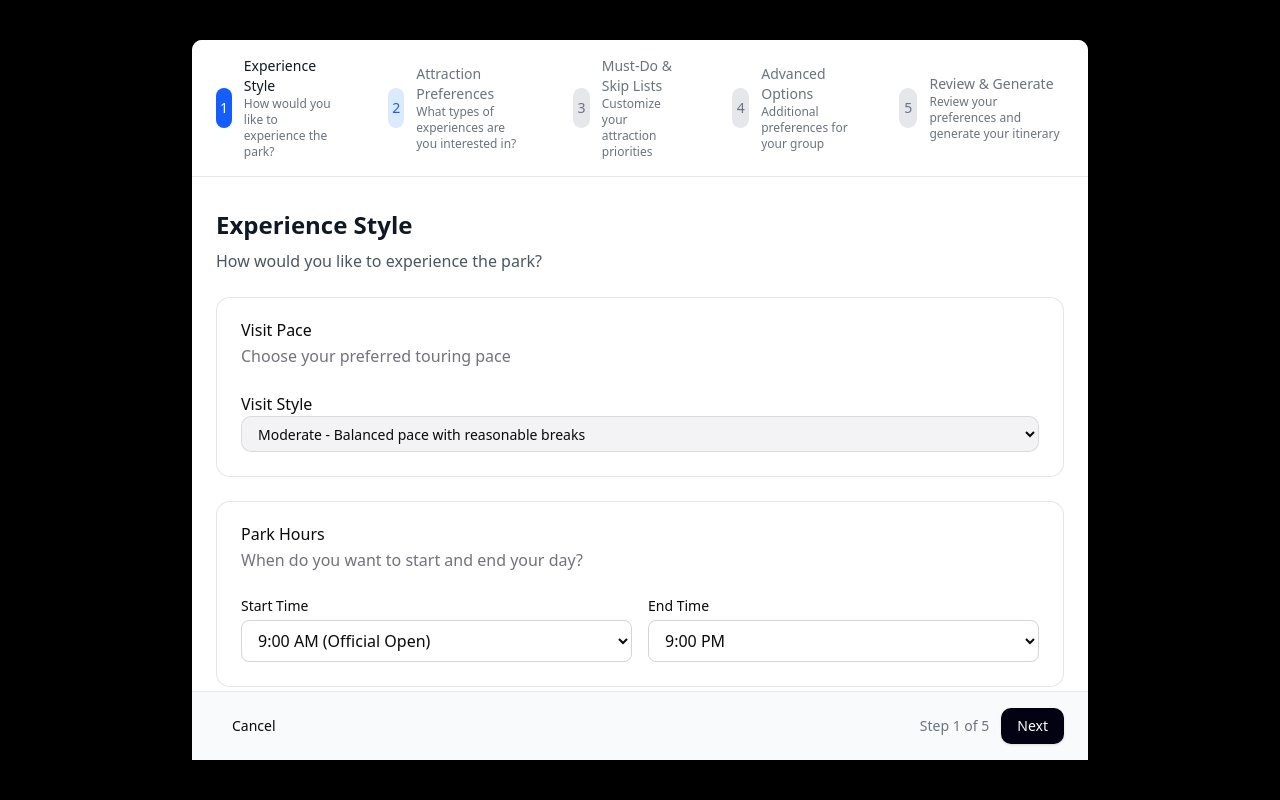
it: ItineraryPreferencesWizard › navigates to step 2 (Attraction Preferences) when Next is clicked
Click the button "Next" at (1033, 726), box 1001,708 -> 1064,744
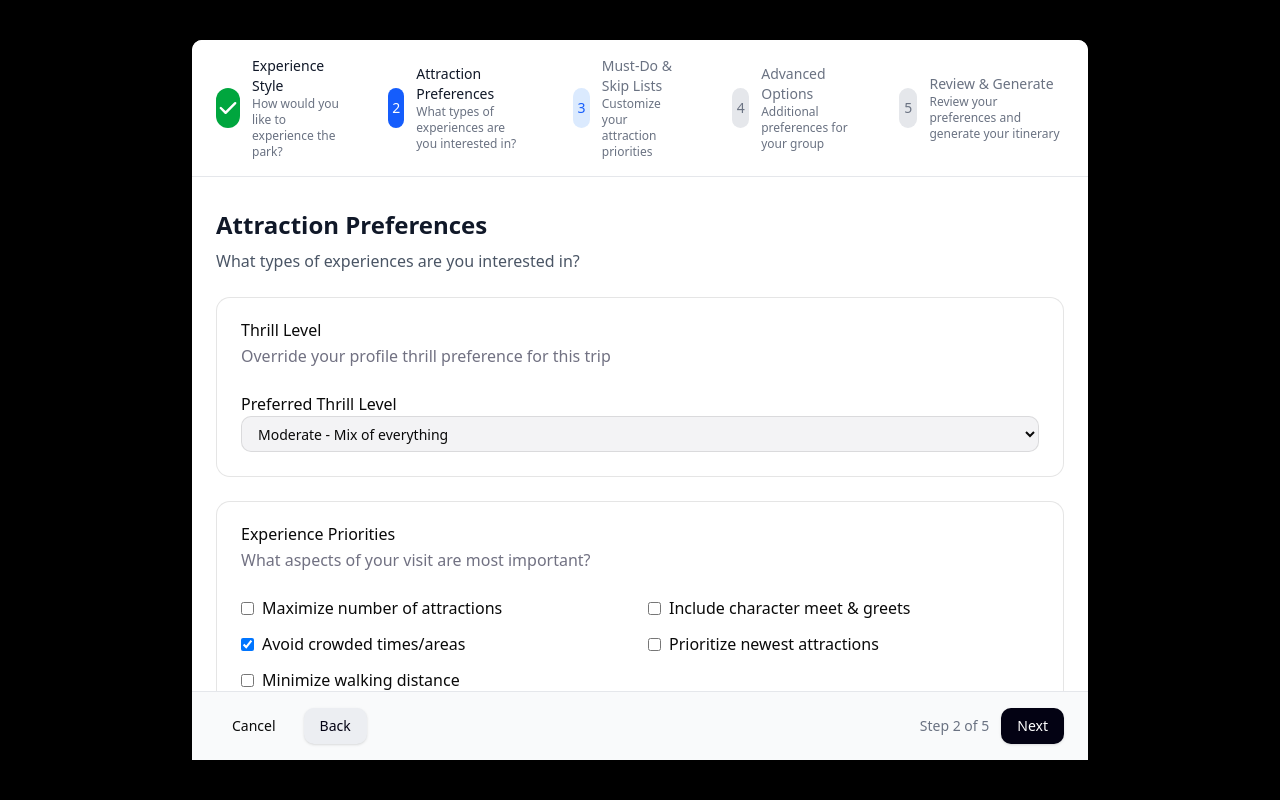
Expected: the text "Attraction Preferences" is shown, 416,64 -> 494,103
Result: the heading "Thrill Level" is shown at 241,322 -> 321,338
Result: the heading "Experience Priorities" is shown at 241,526 -> 395,542
